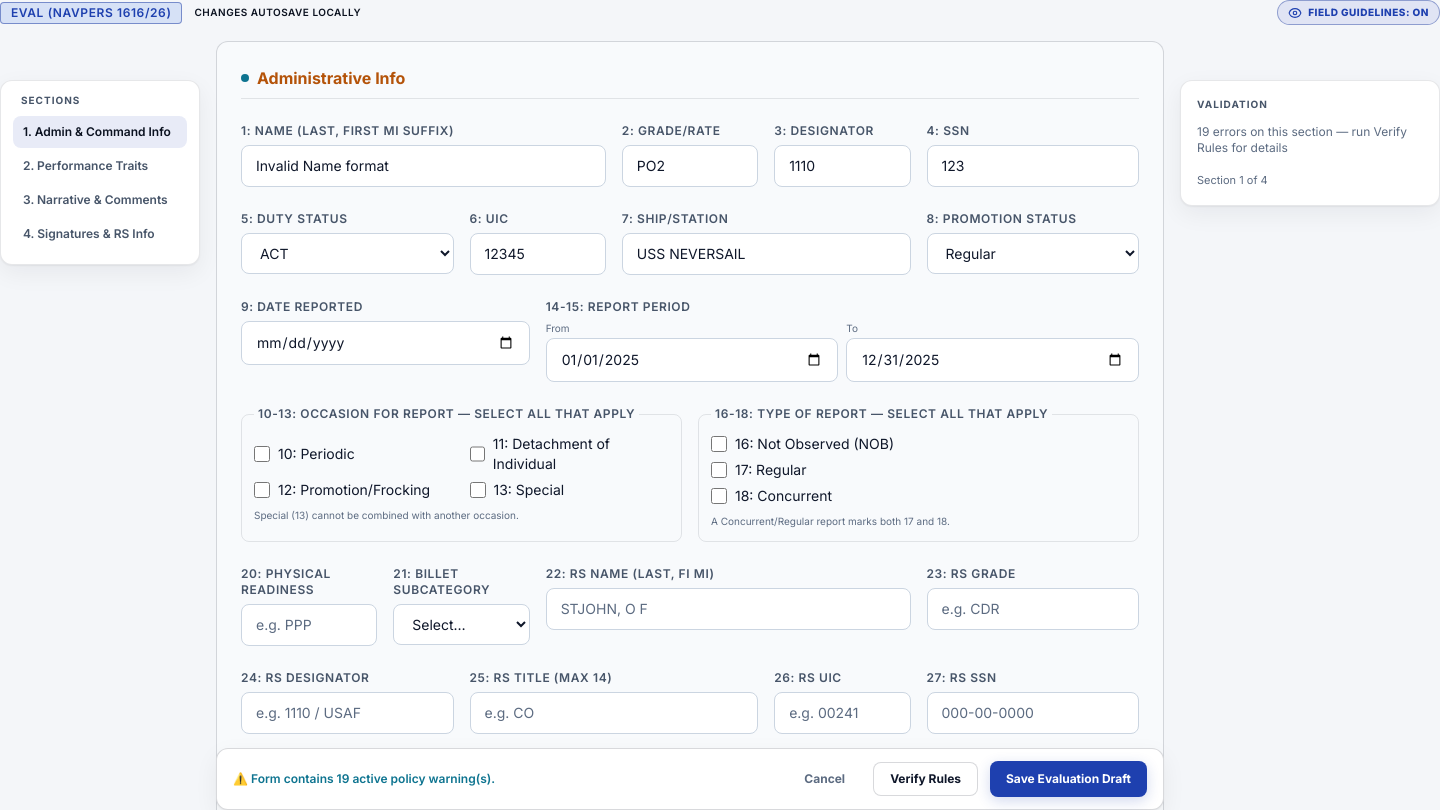
Test: EvaluationForm On-Demand Rules Check Integration Tests › should display validation blockers in ValidationResultsModal when Verify Rules is clicked
Expected: the text "Validation Rules Check" is not shown
Click the button "Verify Rules".
click(926, 779)  # box 873,762 -> 978,796
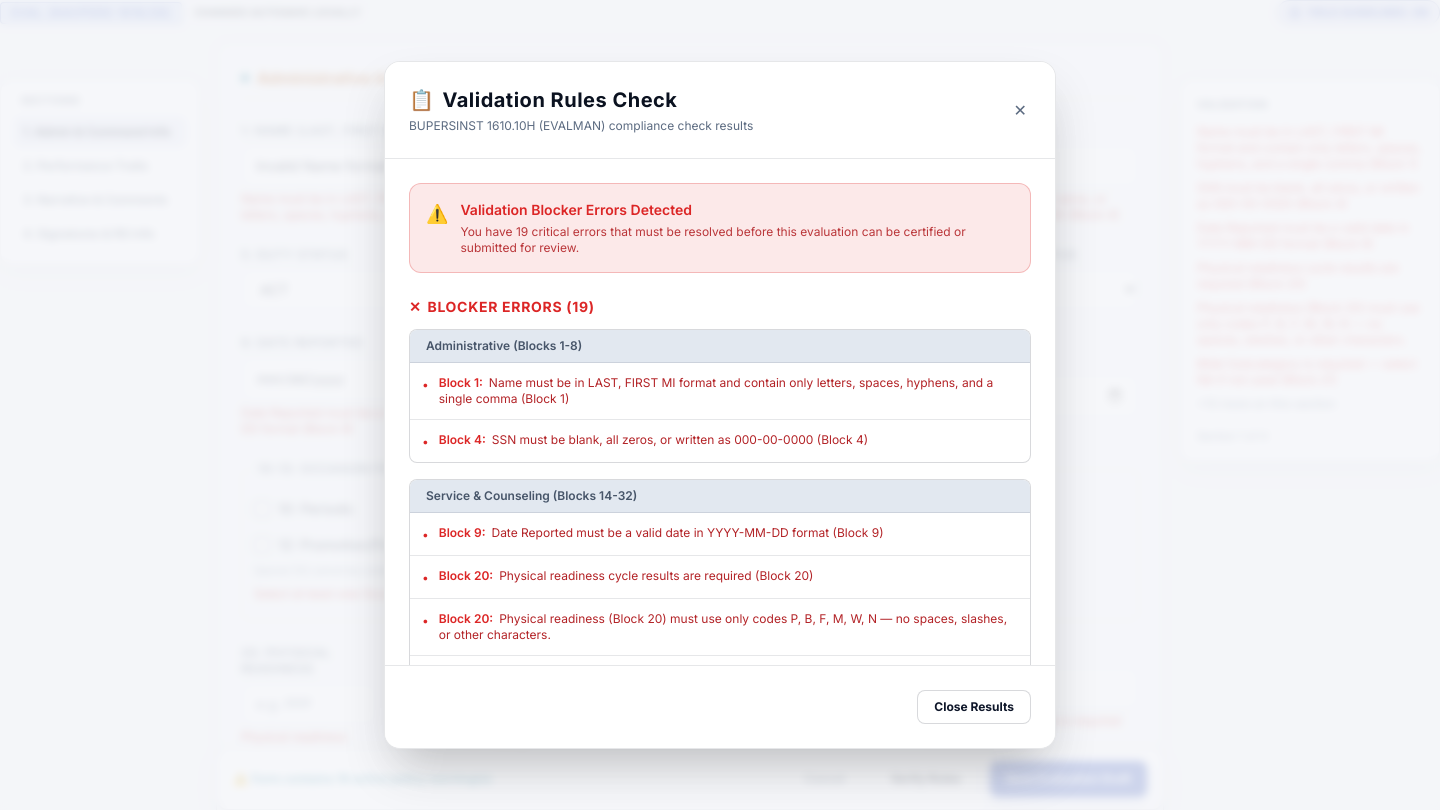
Expected: the heading "📋 Validation Rules Check" is shown, 409,88 -> 678,112
Expected: the heading "Validation Blocker Errors Detected" is shown, 460,201 -> 692,218
Note: Close modal
Click the button "Close Results".
click(974, 707)  # box 917,690 -> 1031,724
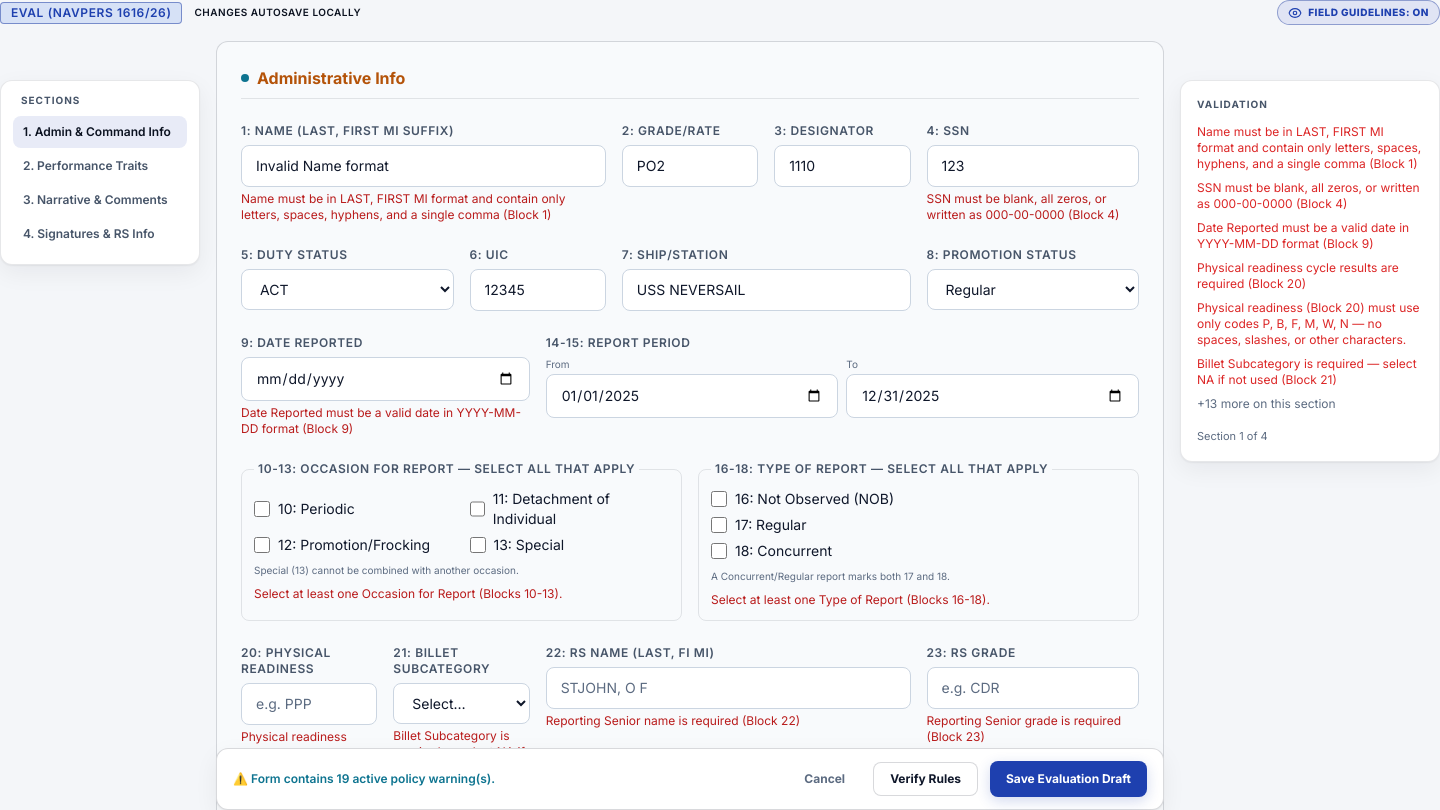
Expected: the heading "Validation Rules Check" is gone
